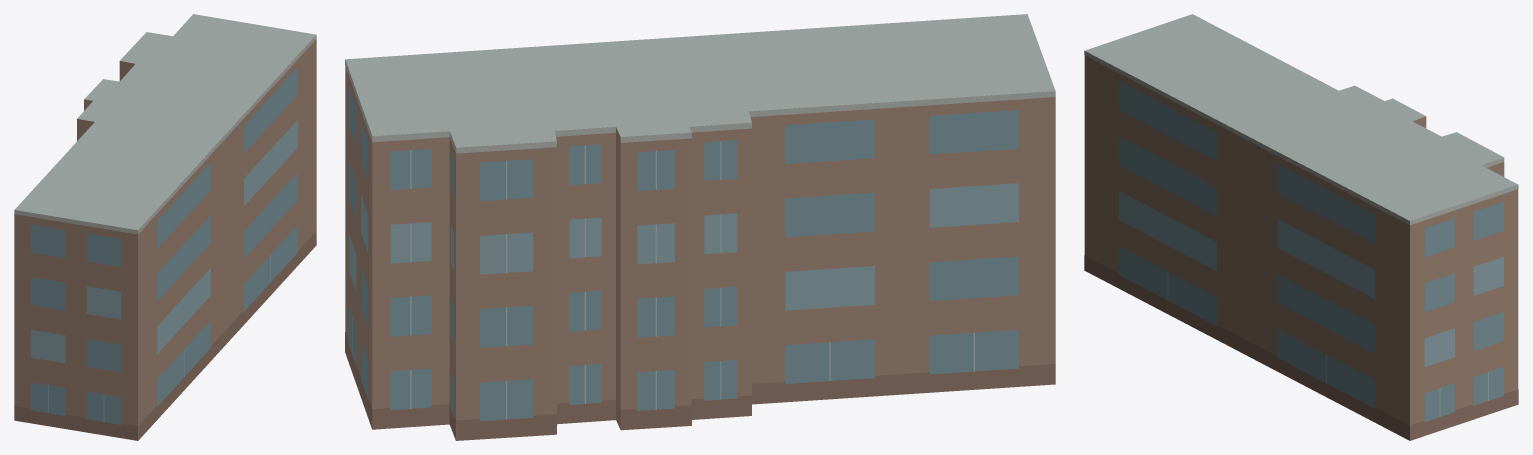
Rendered from survey-upis-32529315.glb.
The picture shows the model from 3 angles, left to right: view 1: azimuth 30°, elevation 25°; view 2: azimuth 150°, elevation 25°; view 3: azimuth 270°, elevation 25°; orthographic projection. The views are drawn at different scales.
Parts seen in each view (by area): view 1: survey-upis-32529315.tmp; view 2: survey-upis-32529315.tmp; view 3: survey-upis-32529315.tmp.
Boxes of the visible parts, x1,y1,x2,y2 form: survey-upis-32529315.tmp: [14, 14, 316, 440]; survey-upis-32529315.tmp: [345, 14, 1055, 440]; survey-upis-32529315.tmp: [1084, 14, 1518, 440].
Bounding box in the file's own units: 24.64 × 12.2 × 21.83.
